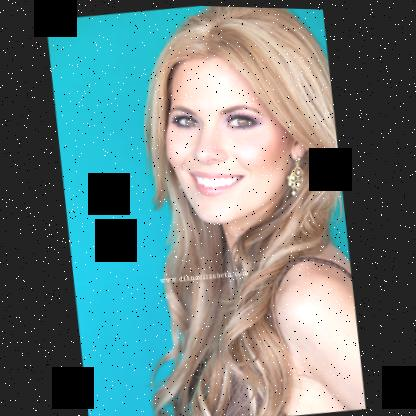Female: (154, 43, 318, 228)
